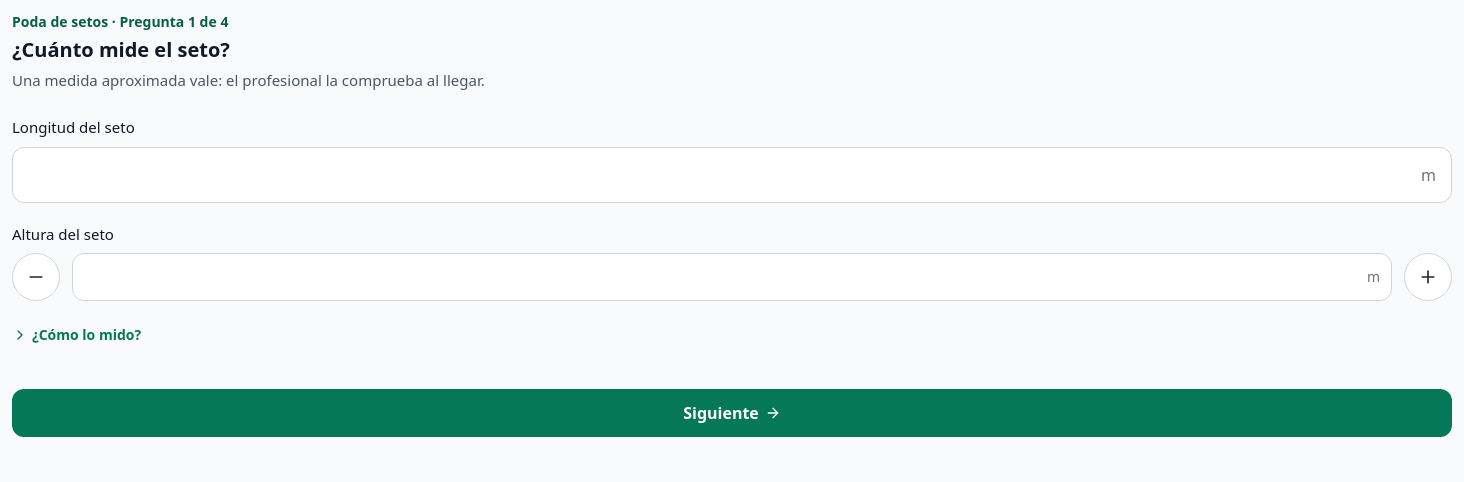
Test: setos · tramo de tarifa en vivo › 2 m → «Tramo de tarifa: Bajo (hasta 2 m)»
Type "2" into the field labelled "Altura del seto".
click(732, 277); type("2")  # box [72,253,1392,301]
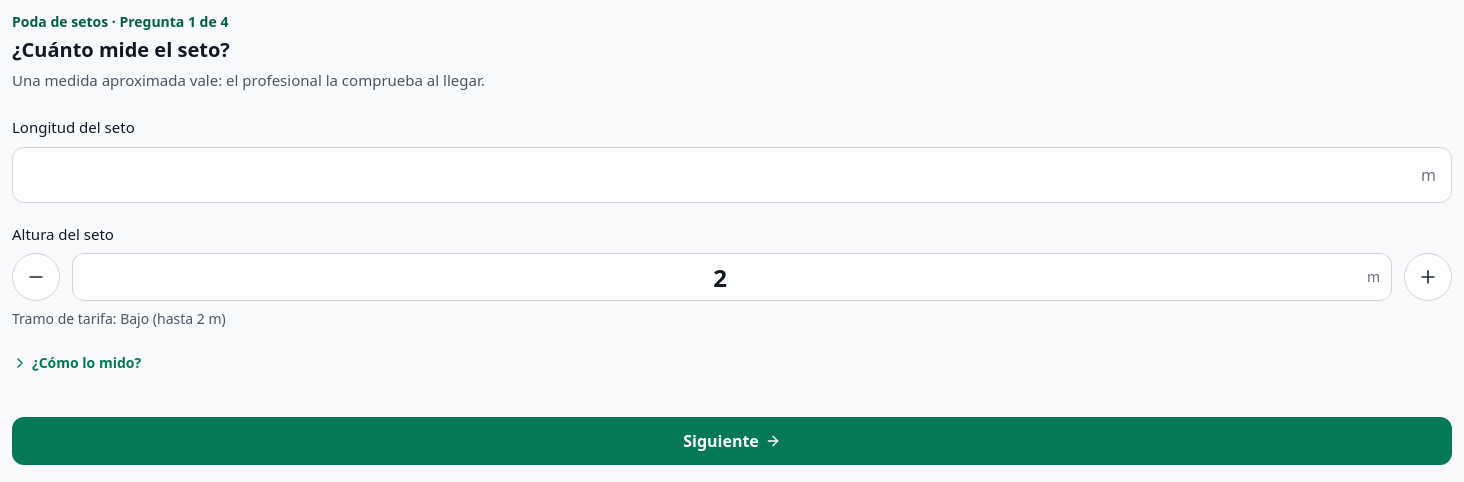
expect the text "Tramo de tarifa: Bajo (hasta 2 m)" is shown: met, box [12,309,226,328]
